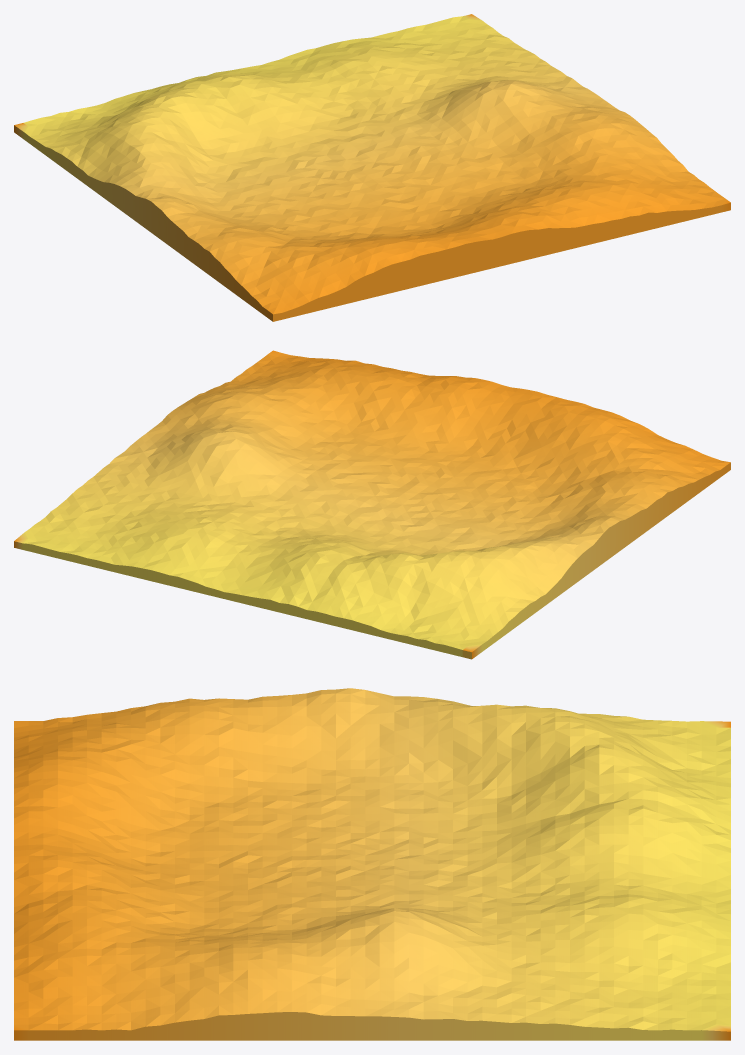
File: SM_Landscape.fbx
3 views of the same model, one above another, from view 1: azimuth 30°, elevation 25°; view 2: azimuth 150°, elevation 25°; view 3: azimuth 270°, elevation 25° (orthographic). The views are drawn at different scales.
Parts seen in each view (by area): view 1: Landscape; view 2: Landscape; view 3: Landscape.
Boxes of the visible parts, left/top/right/bottom form: Landscape: left=14, top=14, right=730, bottom=321; Landscape: left=14, top=350, right=730, bottom=659; Landscape: left=14, top=688, right=730, bottom=1040.
Bounding box in the file's own units: 119 × 11.41 × 117.
